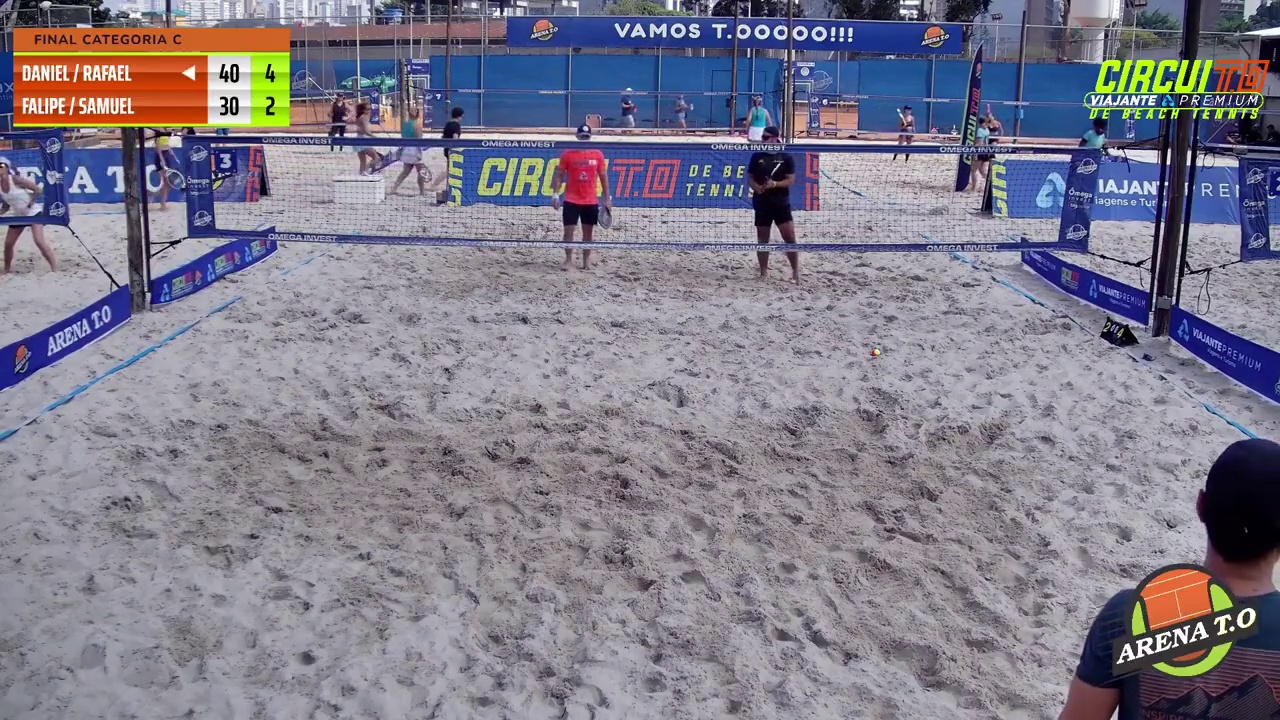court_line: (628, 0, 807, 340)
